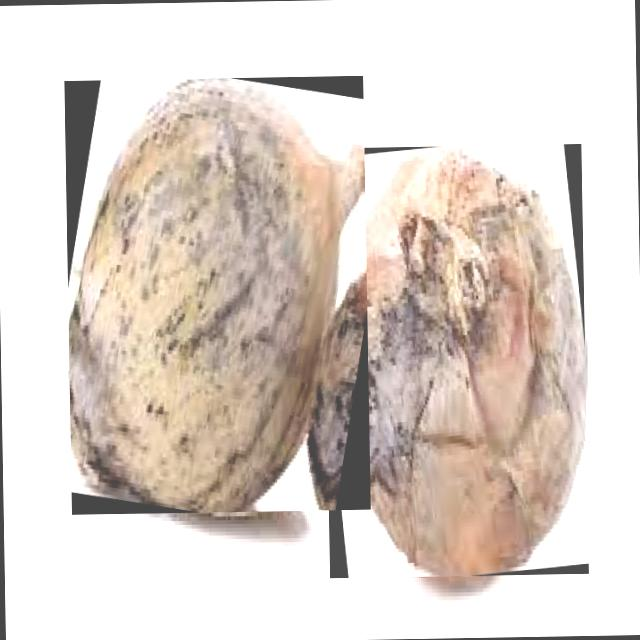rotten: (68, 78, 365, 512), (326, 146, 586, 576)
